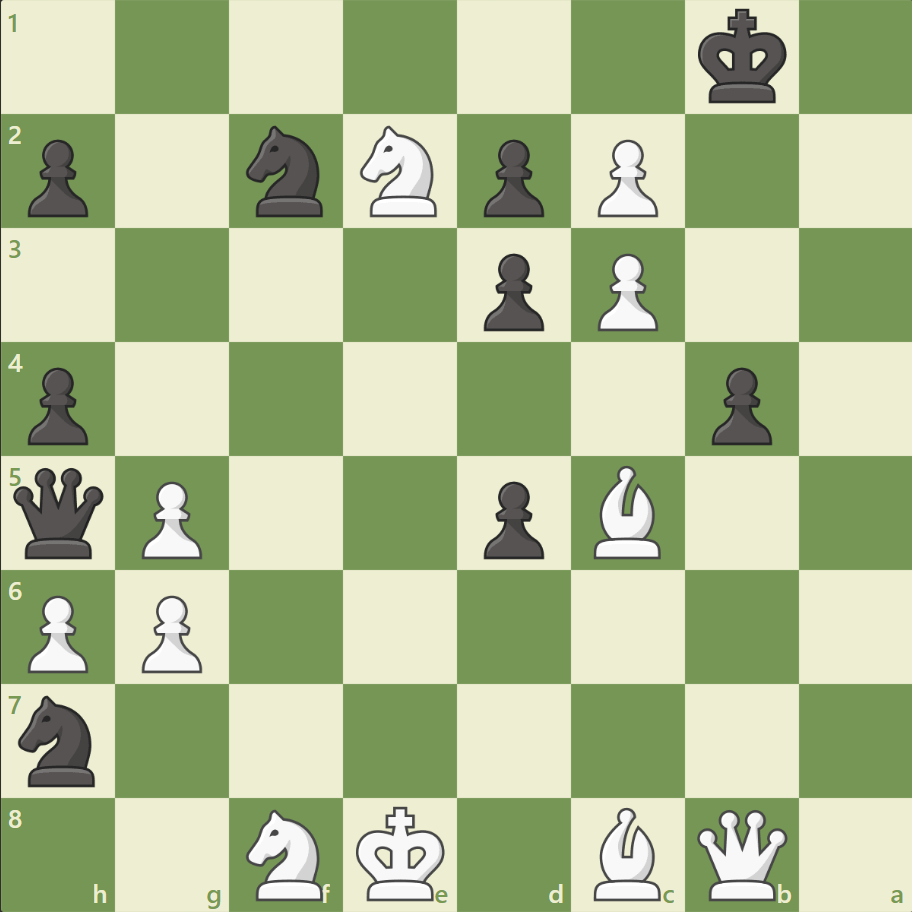B: (585, 801, 669, 904), (585, 460, 669, 563)
K: (351, 798, 451, 906)
N: (351, 121, 449, 223), (238, 802, 335, 904)
P: (133, 586, 208, 677), (20, 586, 95, 677), (133, 473, 208, 564), (588, 246, 662, 337), (588, 132, 662, 223)
Q: (691, 804, 790, 903)
k: (692, 4, 792, 112)
n: (11, 688, 108, 791), (238, 121, 335, 223)
p: (474, 473, 549, 564), (701, 359, 776, 450), (20, 359, 95, 450), (474, 246, 549, 337), (474, 132, 549, 223), (20, 132, 95, 223)
q: (10, 463, 109, 562)
